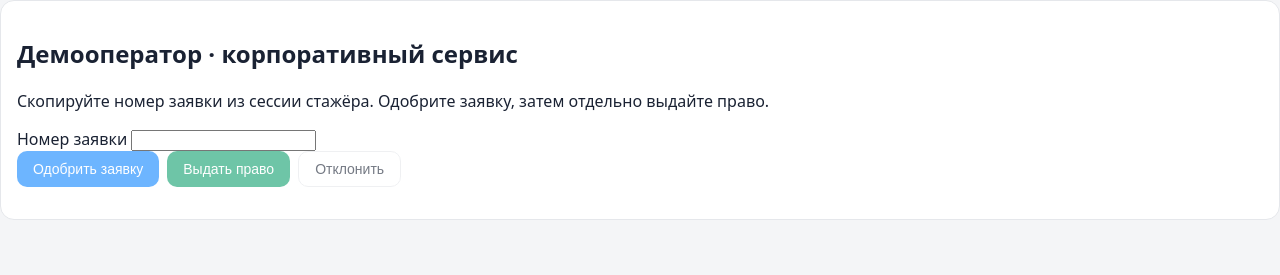
Scenario: sends an explicit operator decision and displays the service result
Type "req-01" into the field labelled "Номер заявки" at (224, 140), box [131,130,316,151]
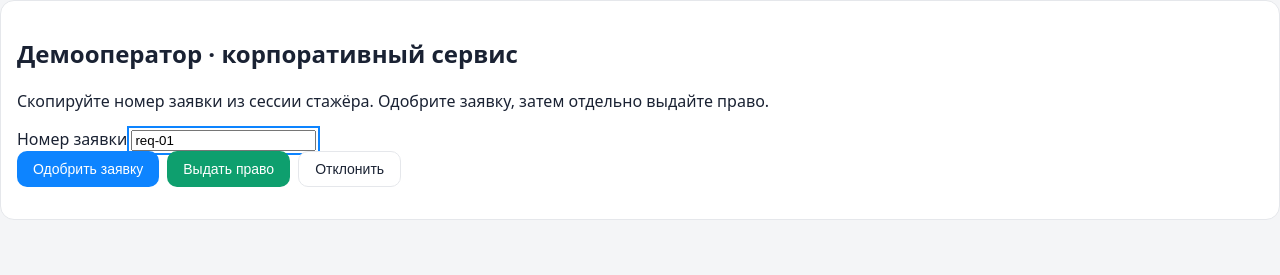
Click the button "Одобрить заявку" at (88, 169), box [17,151,159,187]
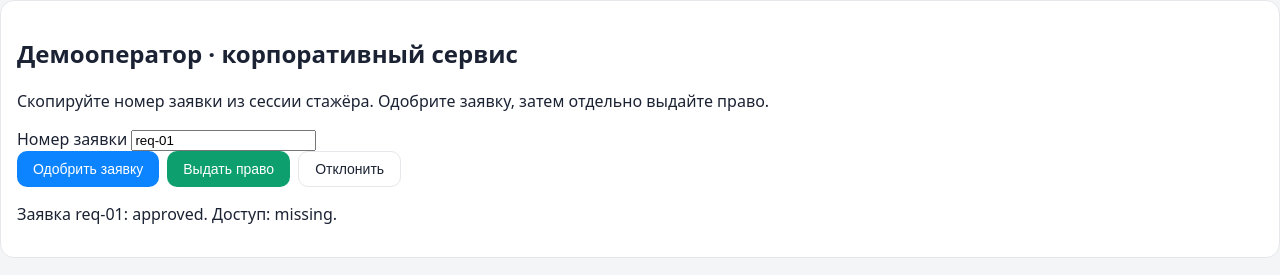
Expected: the message shows "approved", [17,203,337,225]
